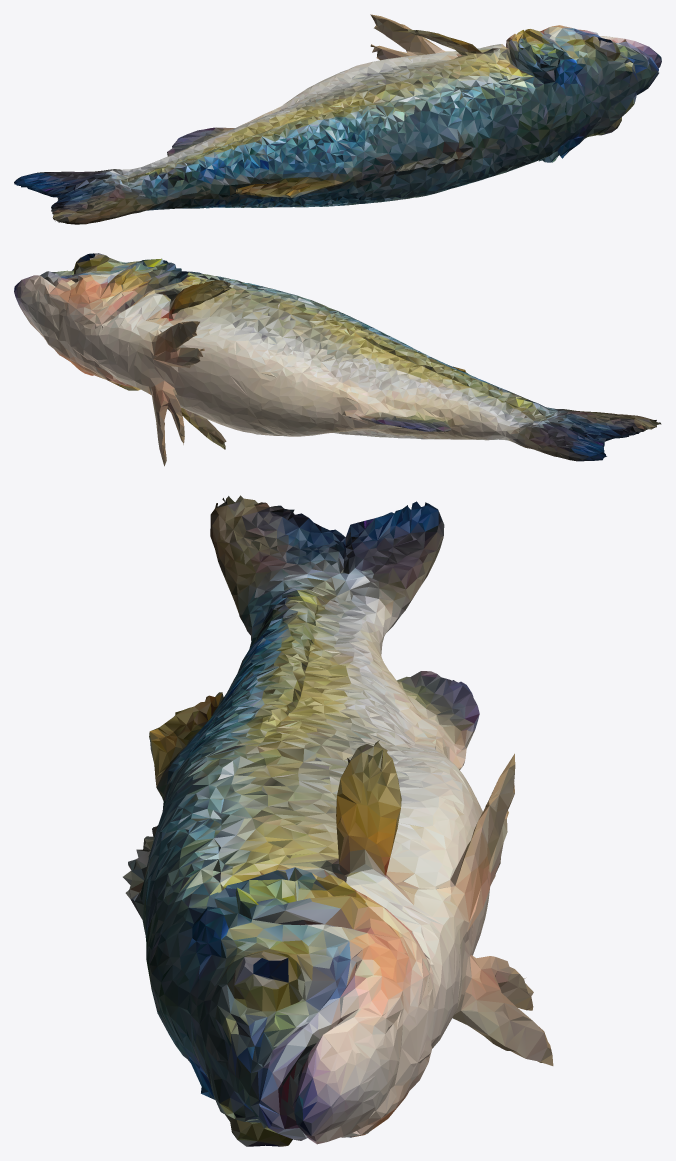
File: seabass.glb
3 renders of one model, top to bottom at view 1: azimuth 30°, elevation 25°; view 2: azimuth 150°, elevation 25°; view 3: azimuth 270°, elevation 25°, orthographic. The views are drawn at different scales.
Parts seen in each view (by area): view 1: geometry_0; view 2: geometry_0; view 3: geometry_0.
Boxes of the visible parts, <box> form: geometry_0: <box>14,14,661,224</box>; geometry_0: <box>14,253,661,466</box>; geometry_0: <box>123,495,553,1146</box>.
Bounding box in the file's own units: 0.36 × 0.0901 × 0.1073.
Materials: 1 (1 with a texture image).
